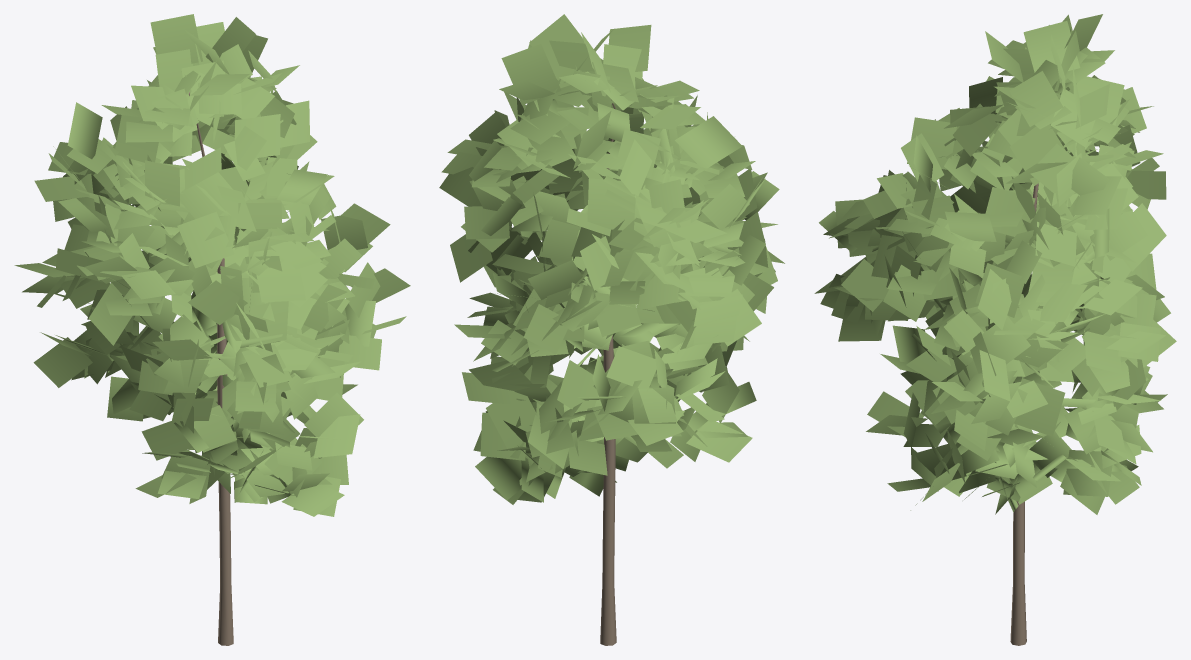
The model's file is Pine_11_young_lod1.glb.
3 renders of one model, left to right at view 1: azimuth 30°, elevation 25°; view 2: azimuth 150°, elevation 25°; view 3: azimuth 270°, elevation 25°, orthographic. The views are drawn at different scales.
Parts seen in each view (by area): view 1: Pine_11_young_lod1; view 2: Pine_11_young_lod1; view 3: Pine_11_young_lod1.
Boxes of the visible parts, <box> form: Pine_11_young_lod1: <box>14,14,410,645</box>; Pine_11_young_lod1: <box>439,14,784,645</box>; Pine_11_young_lod1: <box>814,14,1176,645</box>.
Bounding box in the file's own units: 6.01 × 10.36 × 5.48.
